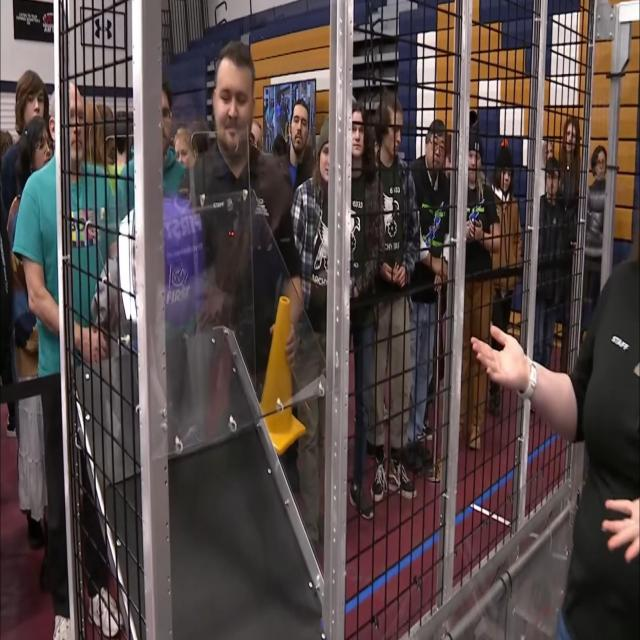frc_cone: (247, 292, 310, 449)
frc_cube: (138, 200, 206, 344)
